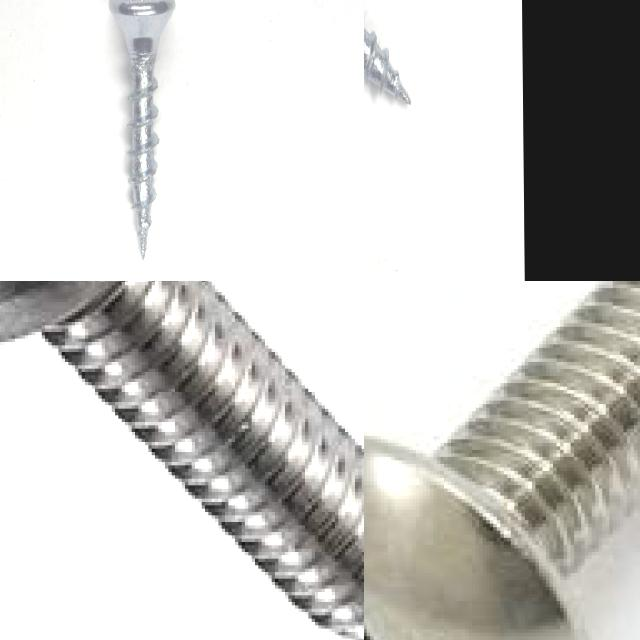Screw: (0, 281, 364, 640), (364, 281, 640, 640), (107, 0, 175, 260), (364, 20, 411, 102)
